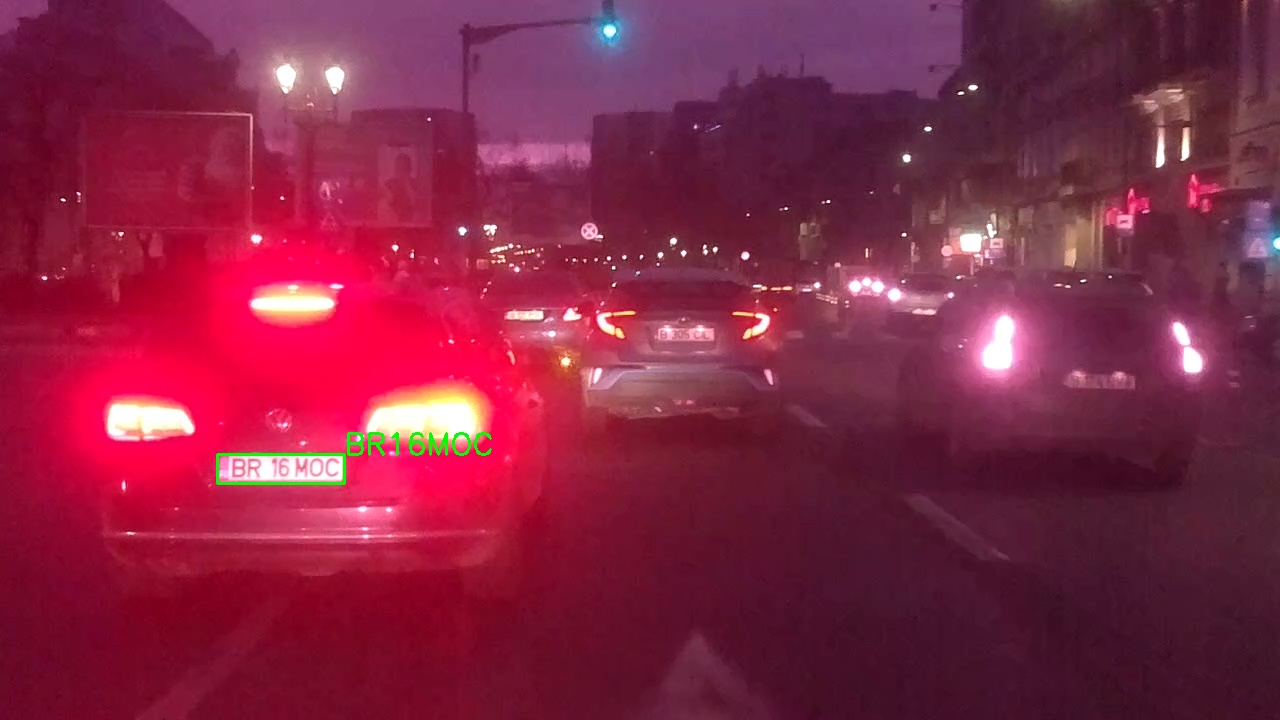license-plate: (217, 454, 345, 484)
